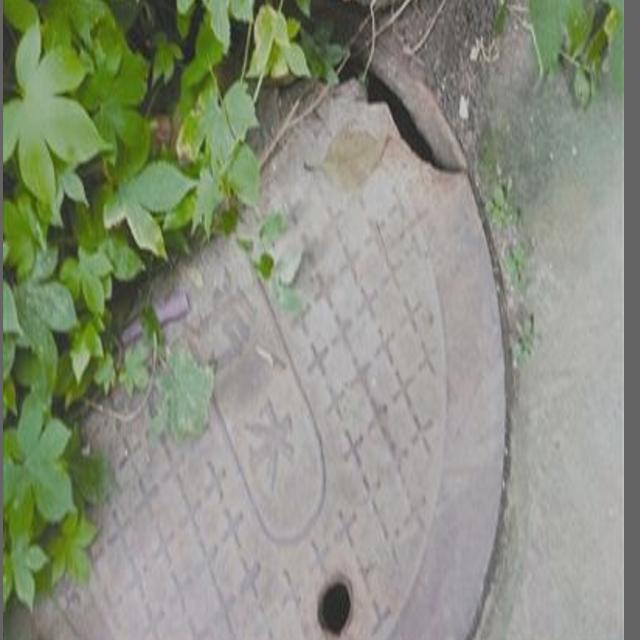broke: (7, 2, 552, 640)
